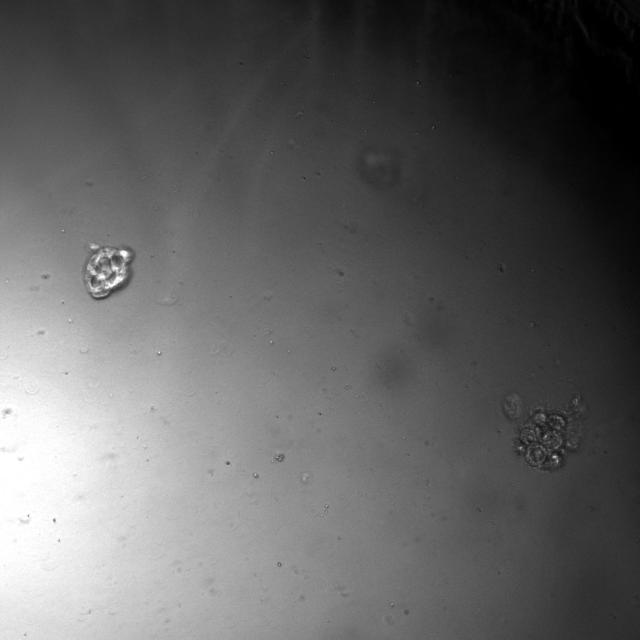organoid: (501, 380, 588, 472), (83, 244, 134, 299)
